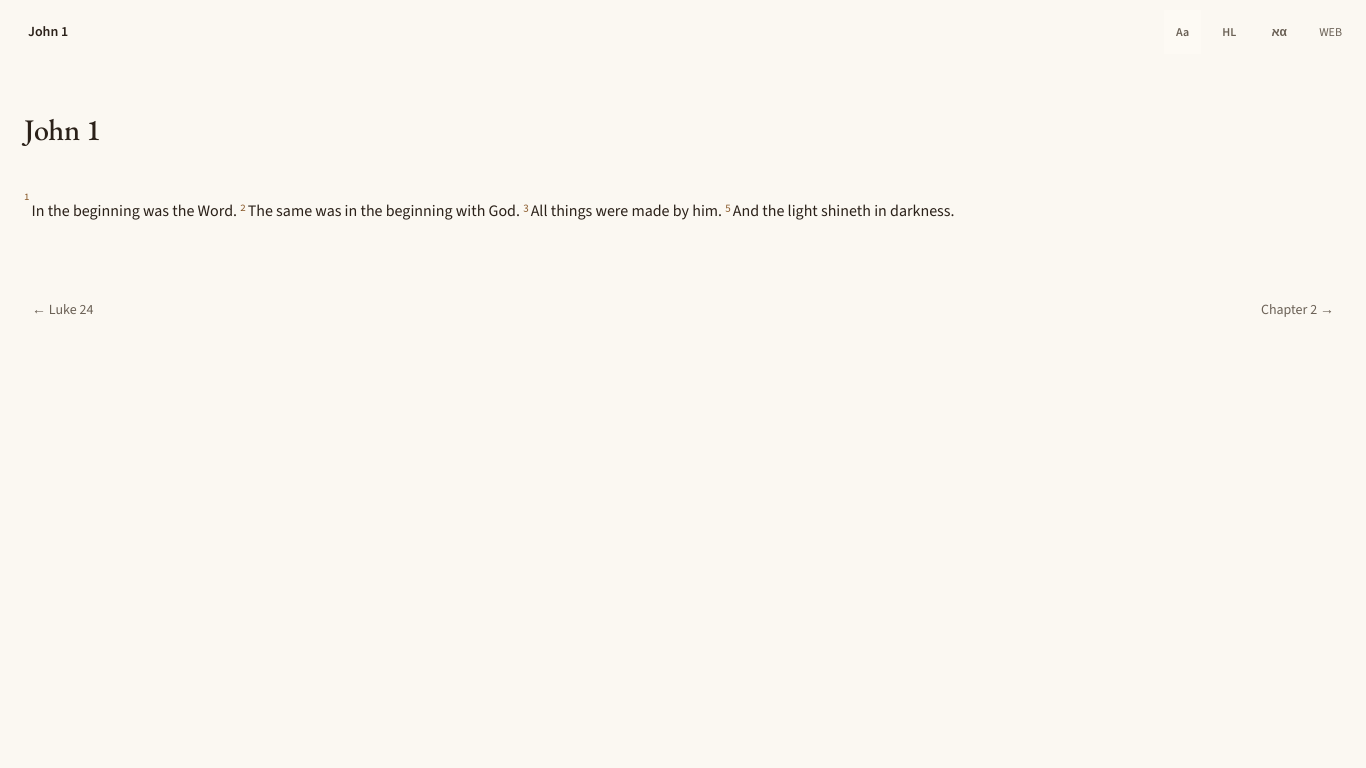
Test: A027/A028 through the reader page › carries the reader’s tab across a step, on the page’s side too
This screenshot has width=1366, height=768.
Click the button "2". click: x=243, y=207
box: [240, 200, 246, 214]
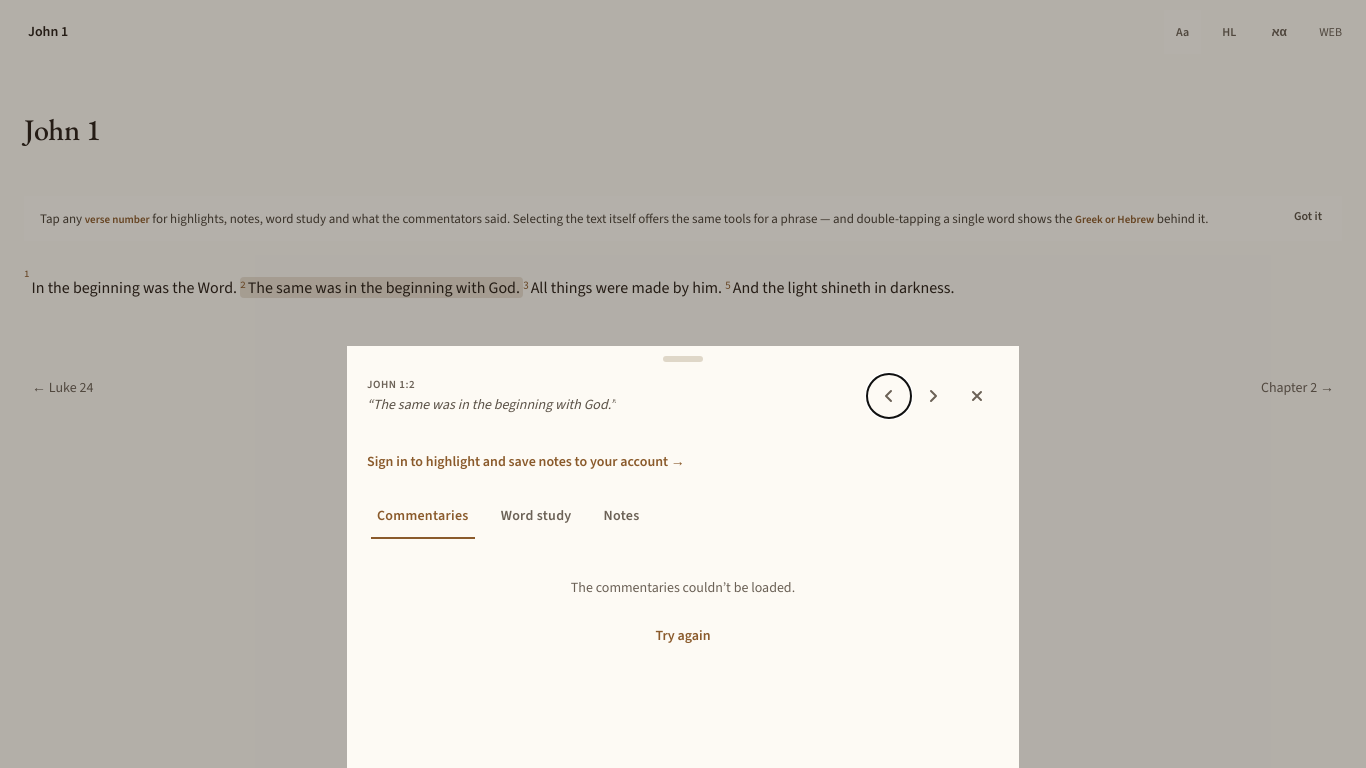
Click the tab "Notes". click: x=622, y=516
box: [590, 494, 654, 538]
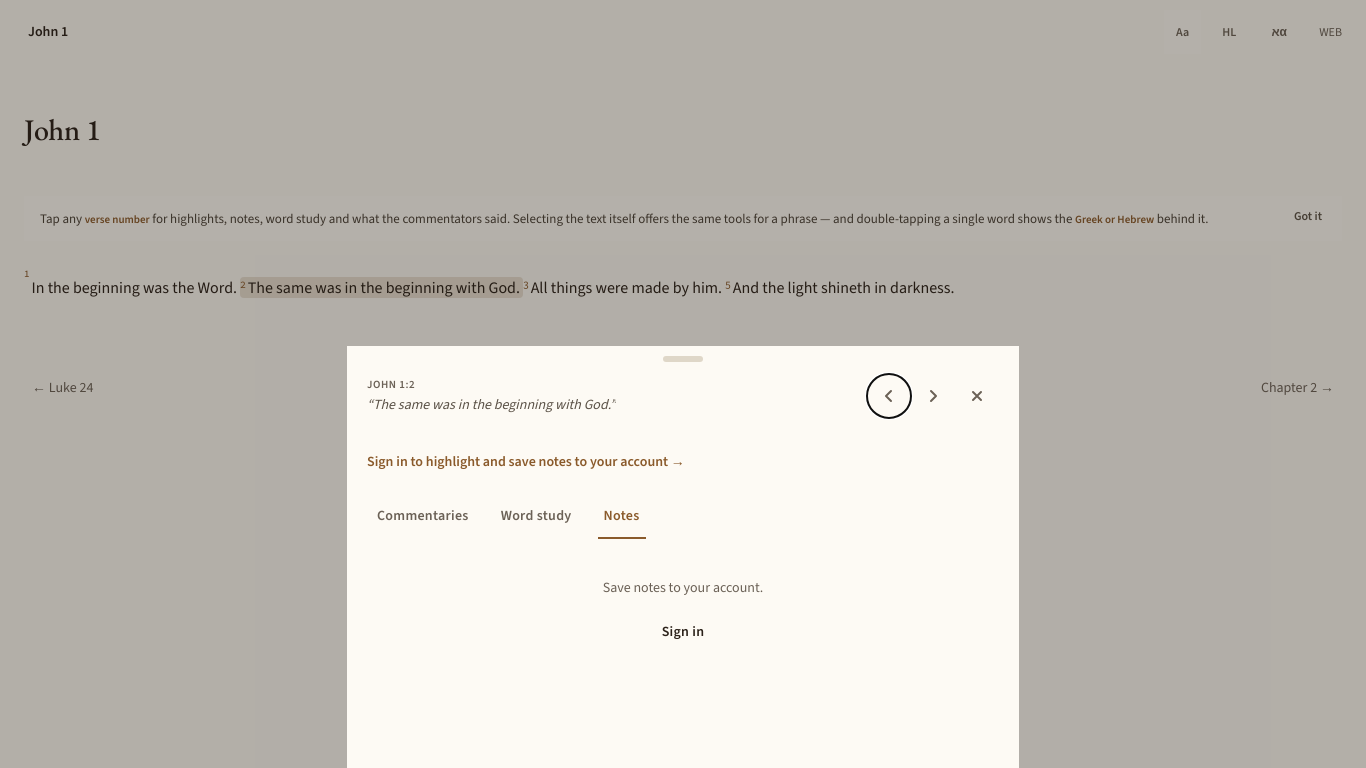
Result: the text "Save notes to your account." is shown at [603, 578, 763, 597]
Click the button named "Next verse". click: x=933, y=396
box: [911, 374, 955, 418]
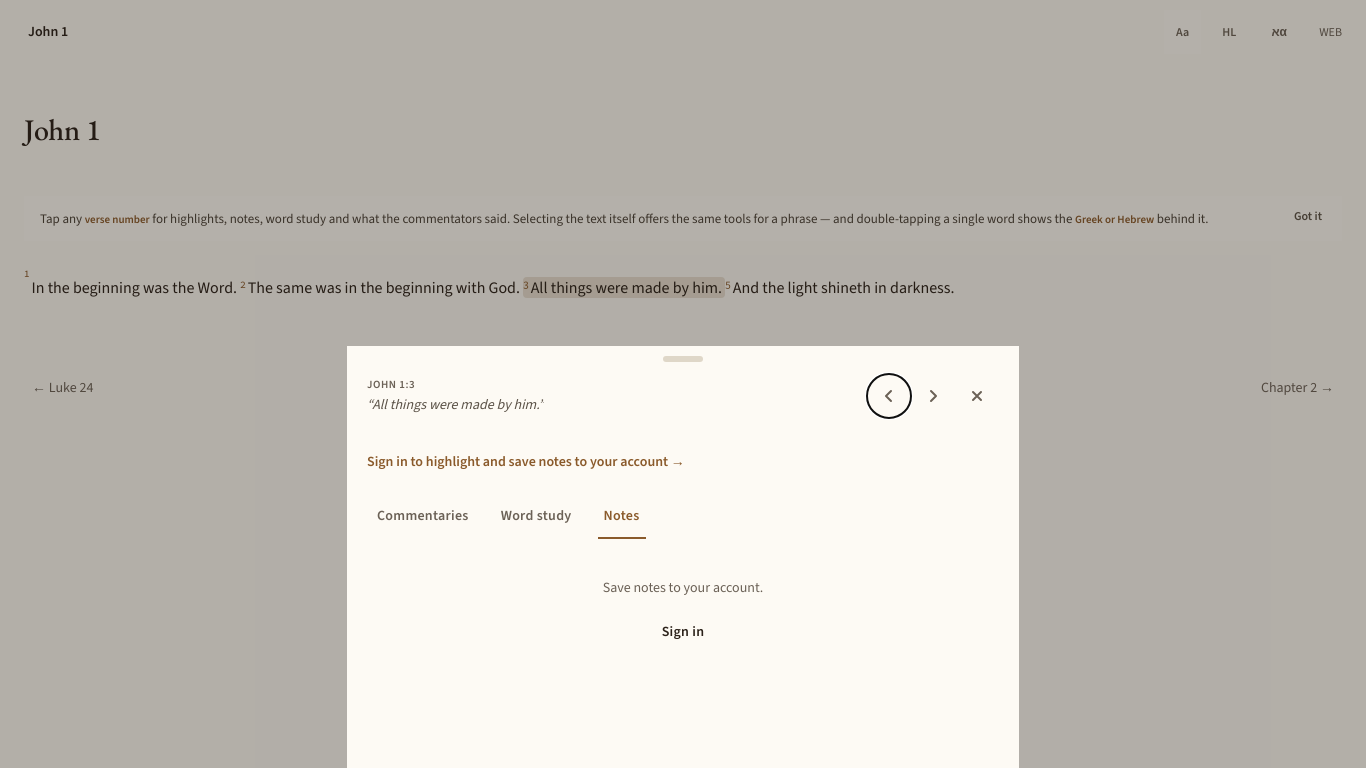
Result: the text "Save notes to your account." is shown at [603, 578, 763, 597]
Result: the text "John 1:3" is shown at [367, 377, 415, 392]
